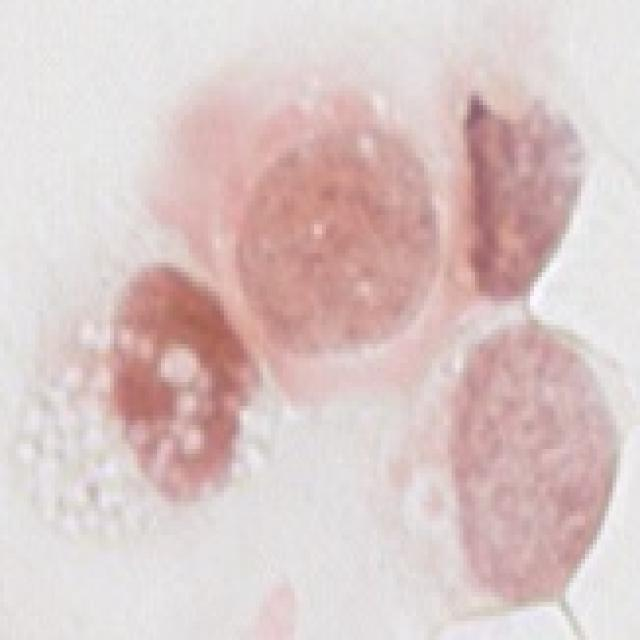nucleus: (218, 113, 457, 368), (438, 313, 632, 608)
